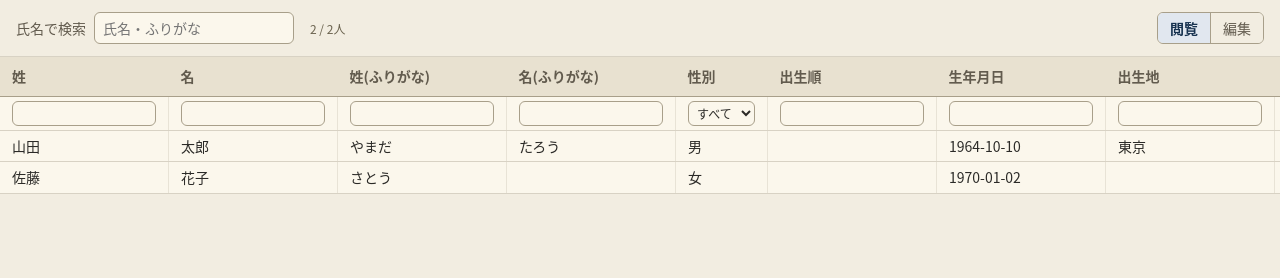
PersonTableView: セル編集(spec「セル編集」) › Escで編集を取り消せる
The image size is (1280, 278).
Click the button "編集" at coordinates (1236, 28), box x1=1210 y1=13 x2=1263 y2=43
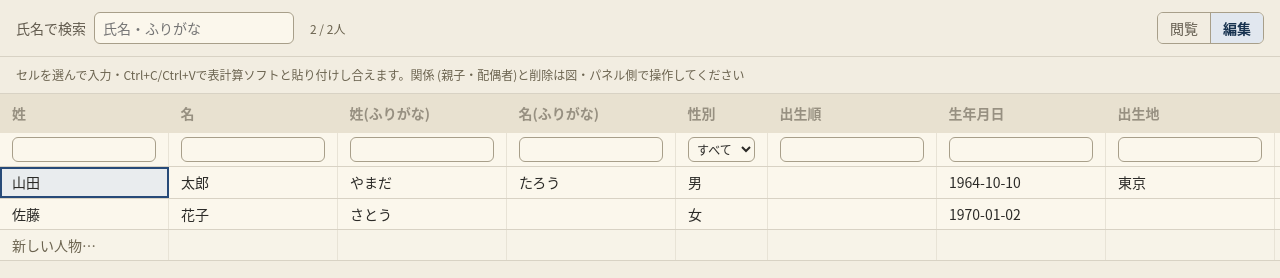
Double-click the cell "山田" at coordinates (84, 182), box x1=0 y1=167 x2=168 y2=198
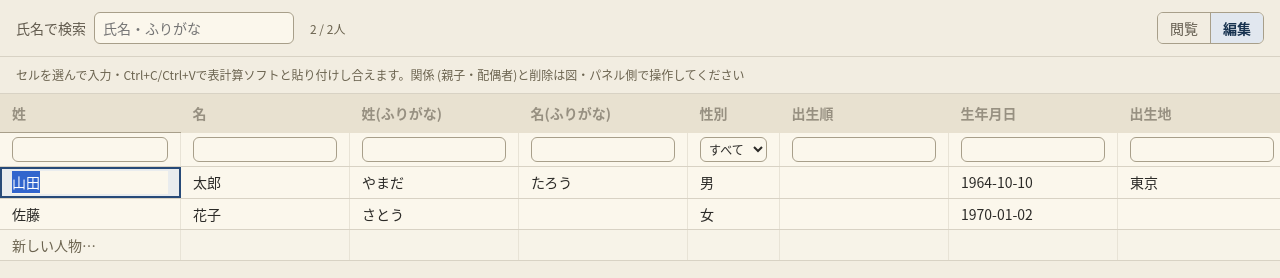
Replace the text in the field named "姓" with "破棄される" at coordinates (90, 182), box x1=12 y1=171 x2=168 y2=194
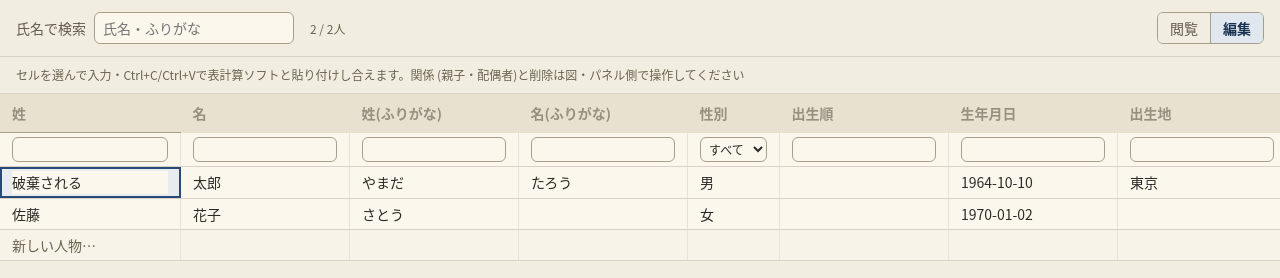
Press Escape in the field named "姓", box x1=12 y1=171 x2=168 y2=194
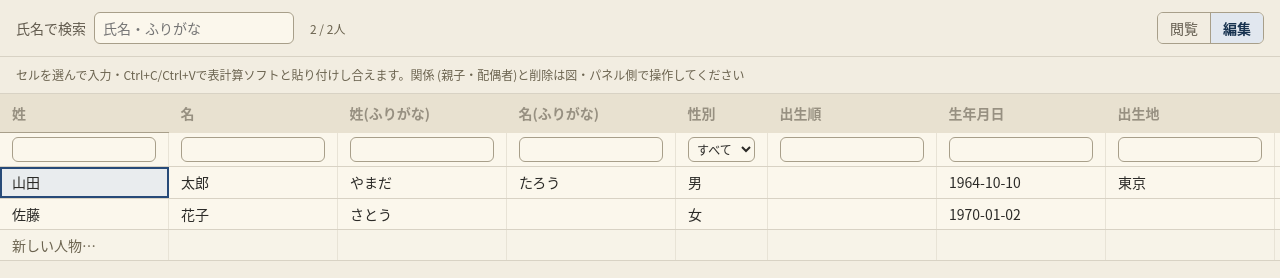
Result: the cell "山田" is shown at x1=0 y1=167 x2=168 y2=198
